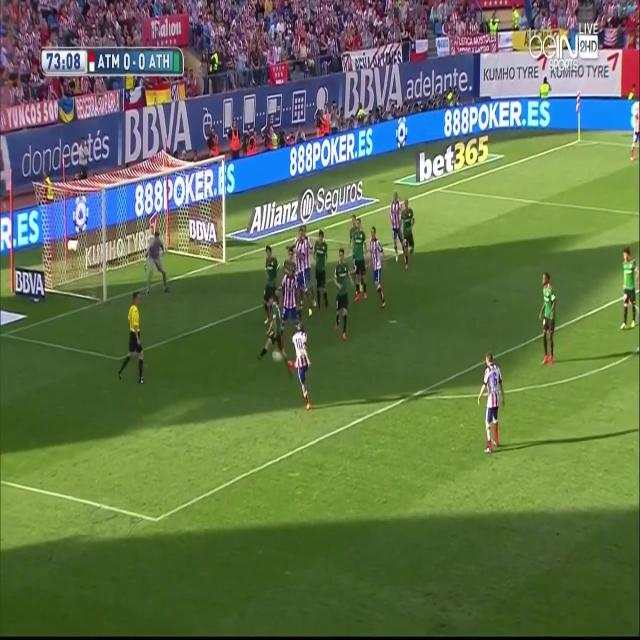Ball: (271, 347, 284, 366)
Goalkeeper: (142, 228, 170, 297)
Player: (474, 352, 508, 456), (286, 322, 316, 414), (538, 272, 560, 370), (617, 244, 640, 334), (350, 212, 371, 304), (258, 293, 284, 363), (368, 221, 387, 315), (312, 228, 332, 316), (294, 220, 312, 317), (278, 262, 302, 333), (333, 247, 350, 342), (399, 191, 417, 274), (389, 190, 406, 261), (262, 240, 280, 296), (629, 97, 640, 164)
Referee: (116, 288, 148, 390)
